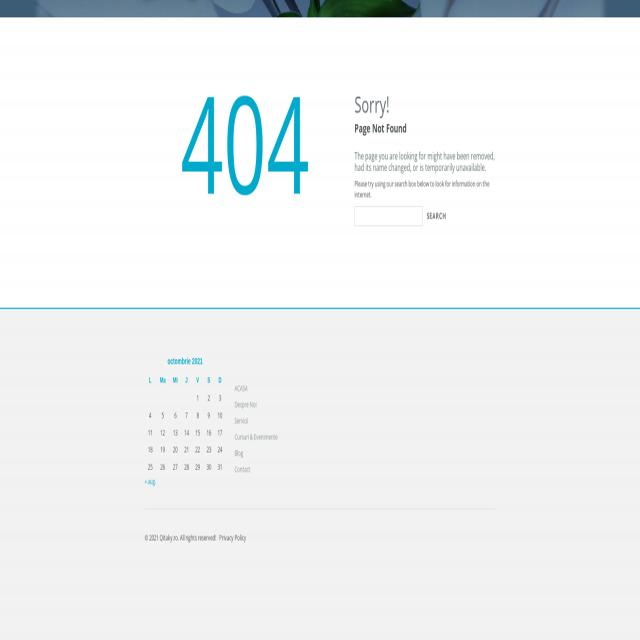field: (355, 206, 423, 226)
